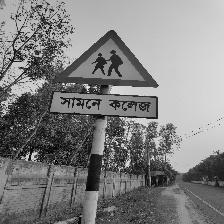College-in-front: (46, 30, 192, 133)
